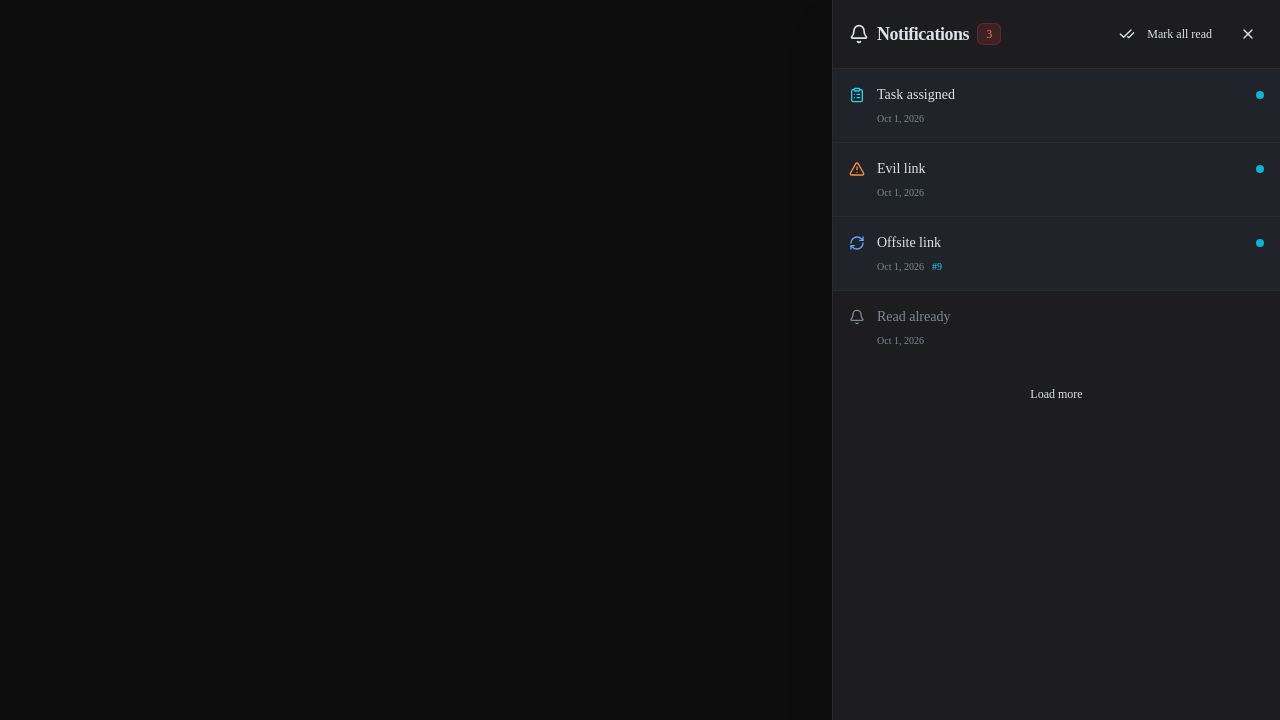
Test: NotificationPanel › requests the contract page size and loads more on demand
Check: the text "Task assigned" is shown, box [877,85,955,105]
What coordinates should you click on to do the following:
click the button "Load more"
I would click on:
 (1056, 394)
Its box is [845,376,1268,412].
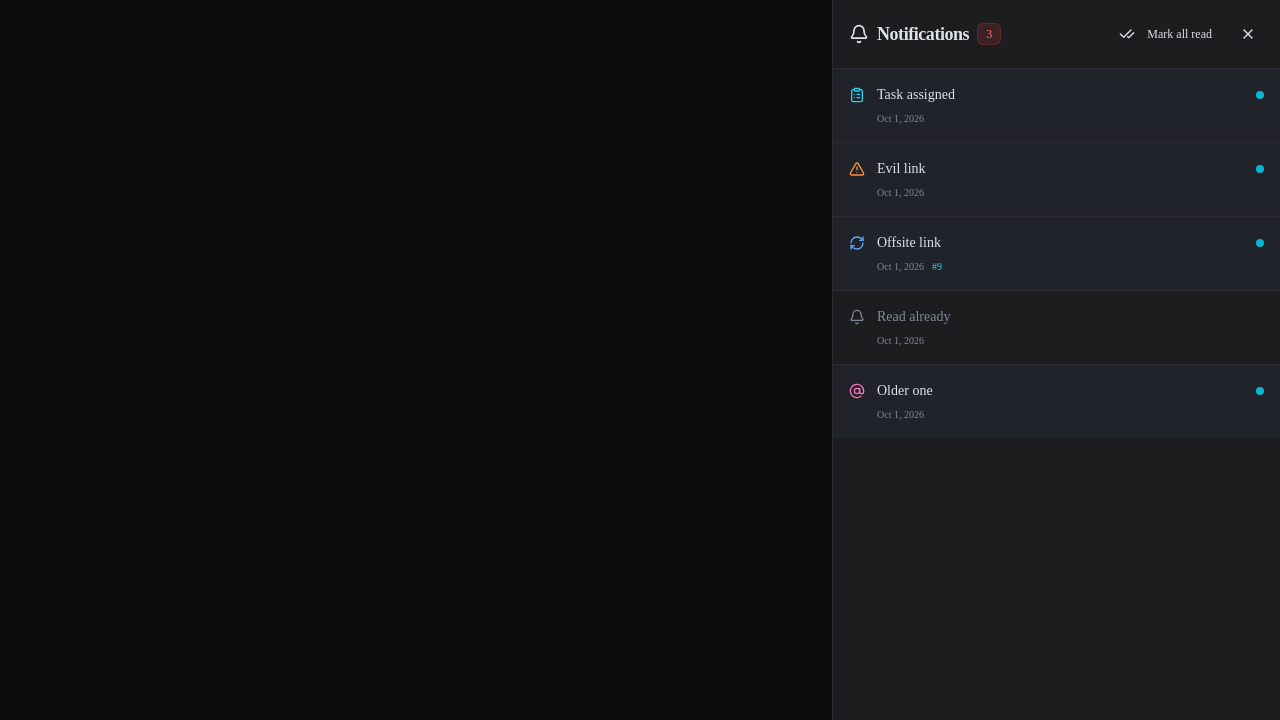
Check: the text "Task assigned" is shown, box [877,85,955,105]
Check: the text "Older one" is shown, box [877,381,933,401]
Check: the button "Load more" is gone
